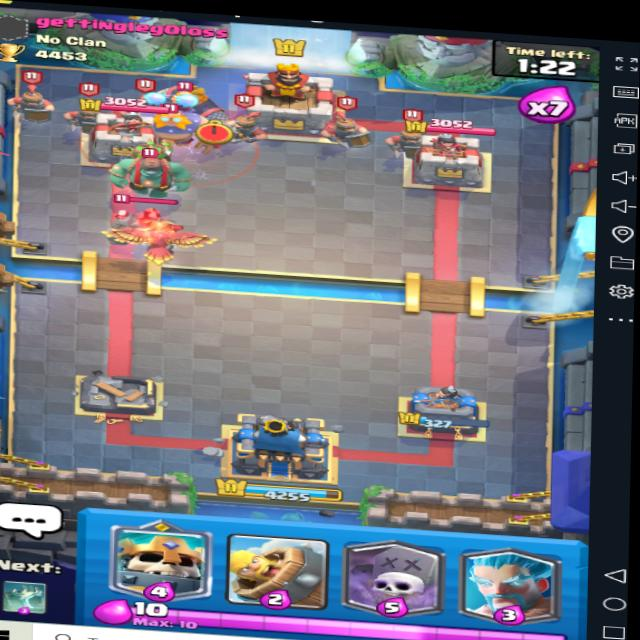Egiant: (119, 85, 226, 157)
Goblingiant: (110, 139, 191, 203)
Golem: (98, 189, 189, 250)
Royalgiant: (159, 73, 239, 137)
Royalrecruits: (312, 98, 375, 158), (8, 68, 64, 128), (229, 100, 277, 155), (67, 81, 110, 135), (384, 112, 428, 164)
